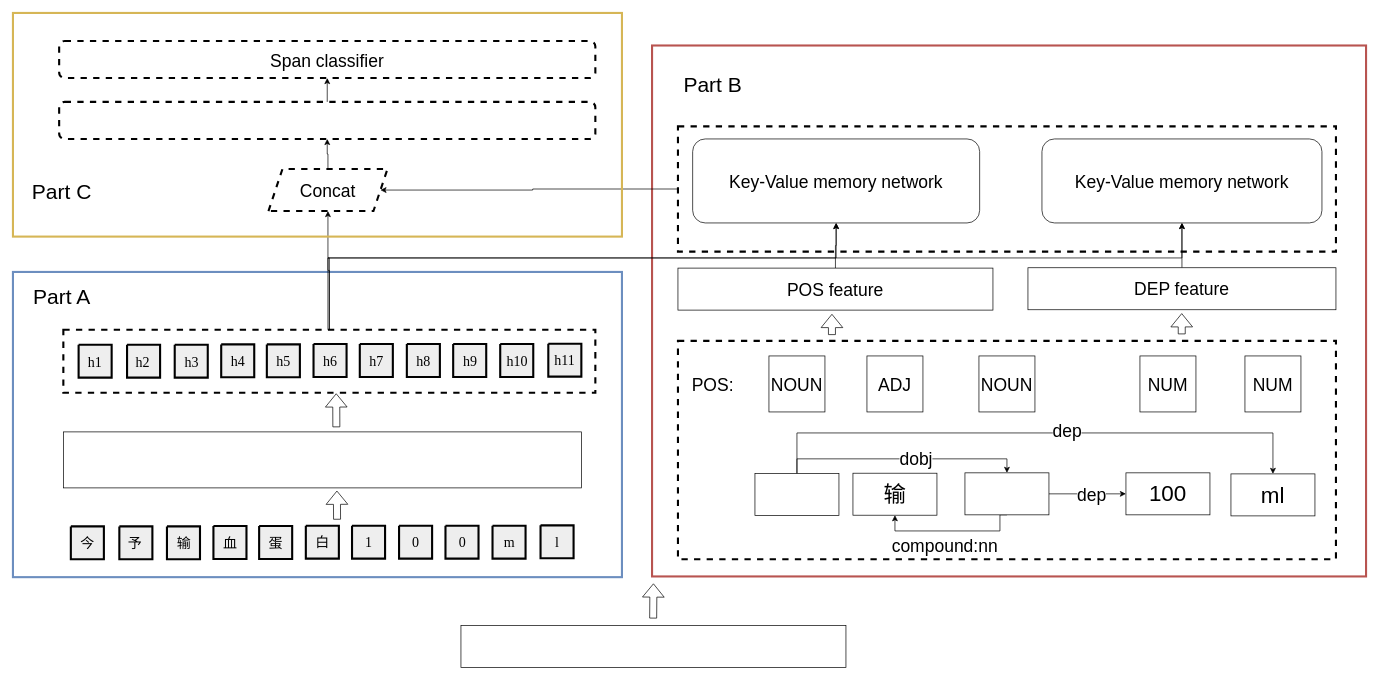
Some shapes in this 1379 by 680 pixel diagram are drawn without their labels. Here are the shapes that lost their labels. From the top down, the centre of each, then its label:
[327,120]: Neural networks
[322,459]: BERT-base
[796,494]: 今予
[1006,493]: 血蛋白
[653,646]: Input：今予输血蛋白100ml
